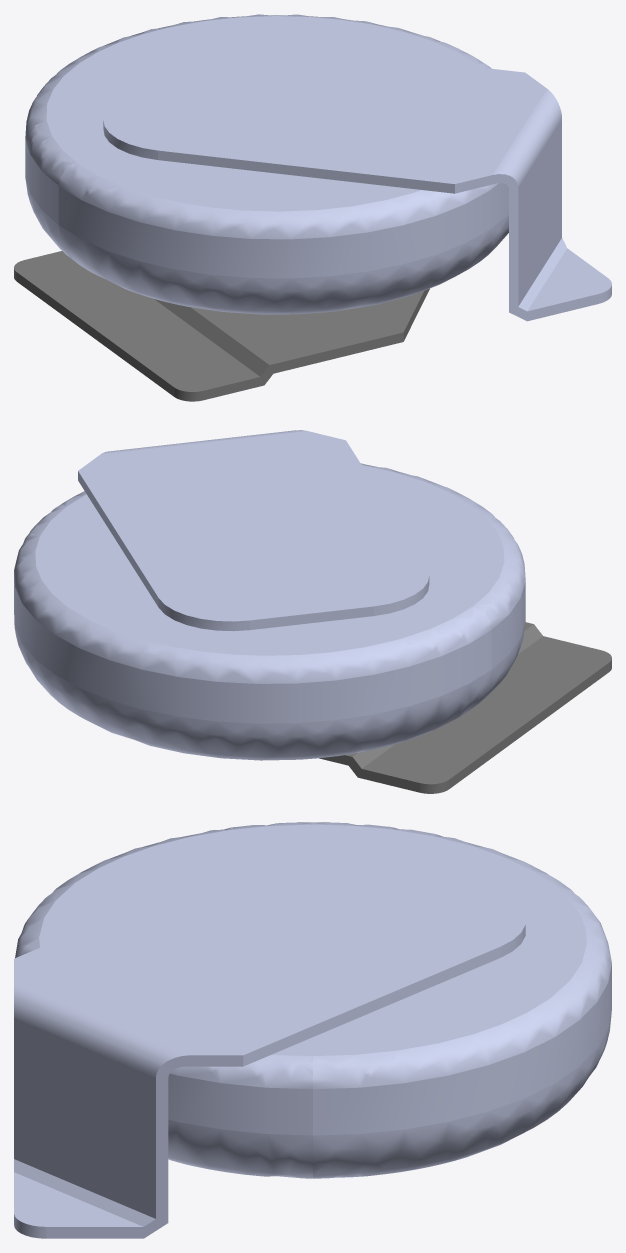
File: sfe-xh414h-iv01e.glb
3 renders of one model, top to bottom at view 1: azimuth 30°, elevation 25°; view 2: azimuth 150°, elevation 25°; view 3: azimuth 270°, elevation 25°, orthographic. The views are drawn at different scales.
Parts seen in each view (by area): view 1: 0.5833333333333334_0.6666666666666666_0.8333333333333334_0, 0.25_0.25_0.25_0; view 2: 0.5833333333333334_0.6666666666666666_0.8333333333333334_0, 0.25_0.25_0.25_0; view 3: 0.5833333333333334_0.6666666666666666_0.8333333333333334_0.
Part boxes in pixels (x1,y1,x2,y2): 0.5833333333333334_0.6666666666666666_0.8333333333333334_0: [25, 14, 611, 321]; 0.25_0.25_0.25_0: [14, 251, 429, 401]; 0.5833333333333334_0.6666666666666666_0.8333333333333334_0: [14, 430, 525, 760]; 0.25_0.25_0.25_0: [319, 622, 611, 793]; 0.5833333333333334_0.6666666666666666_0.8333333333333334_0: [14, 822, 611, 1238].
Bounding box in the file's own units: 0.48 × 0.1625 × 0.4801.
